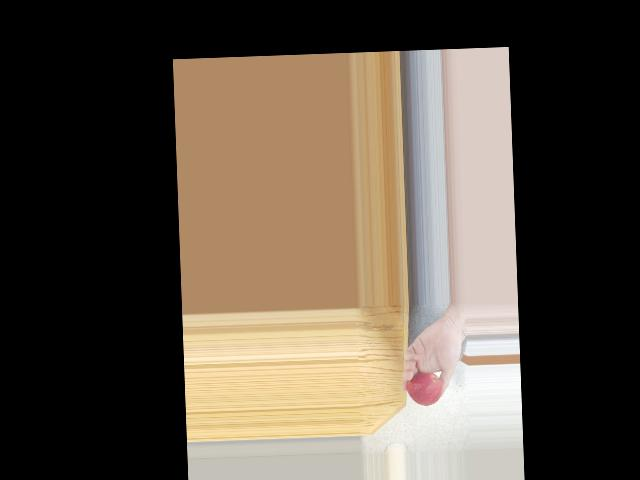apple: (407, 371, 443, 407)
